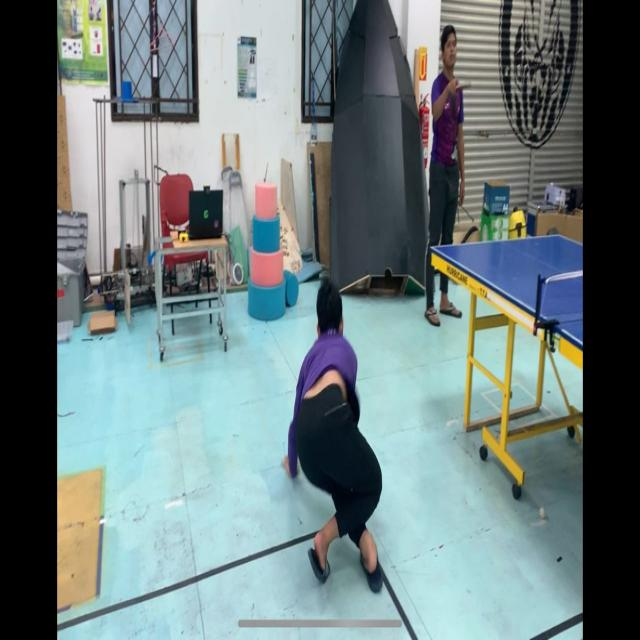Fall-Detected: (276, 258, 394, 592)
